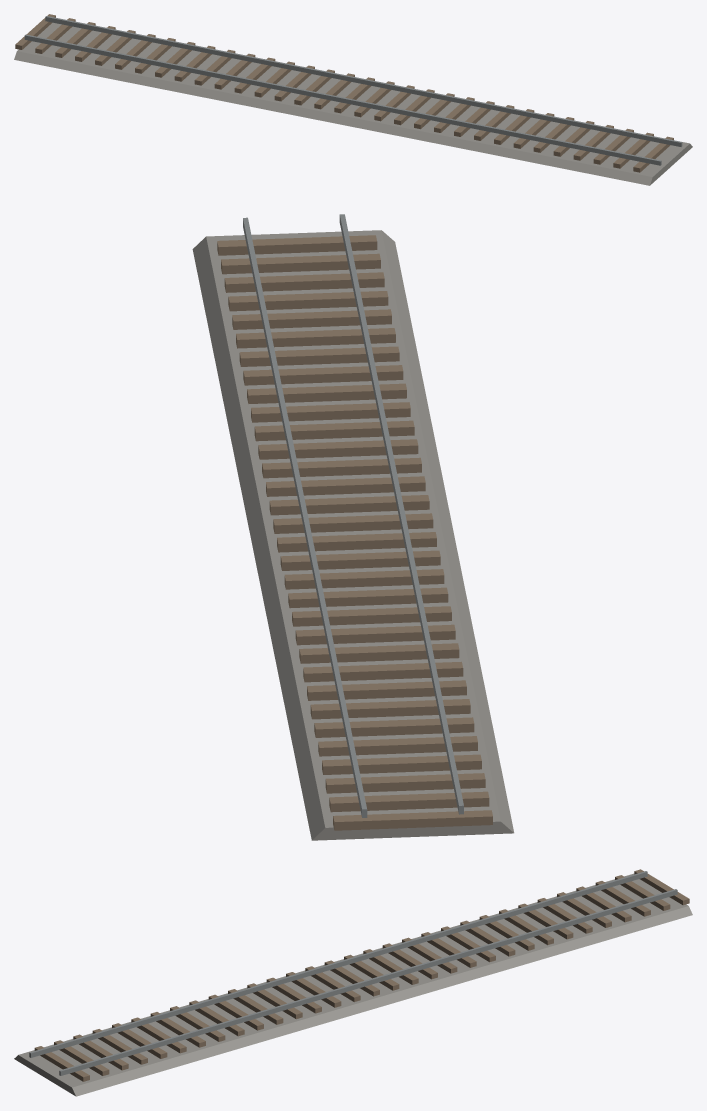
File: rail_01222.glb
3 renders of one model, top to bottom at view 1: azimuth 30°, elevation 25°; view 2: azimuth 150°, elevation 25°; view 3: azimuth 270°, elevation 25°, orthographic. The views are drawn at different scales.
Visible parts, largest first — view 1: Ballast, Sleepers, Rails; view 2: Sleepers, Ballast, Rails; view 3: Ballast, Sleepers, Rails.
Boxes of the visible parts, x1,y1,x2,y2 form: Ballast: (14, 22, 692, 185); Sleepers: (15, 14, 673, 172); Rails: (24, 16, 682, 165); Sleepers: (217, 235, 492, 830); Ballast: (192, 230, 514, 840); Rails: (243, 214, 463, 817); Ballast: (14, 873, 692, 1096); Sleepers: (34, 869, 689, 1081); Rails: (29, 871, 677, 1075).
Bounding box in the file's own units: 14.31 × 0.48 × 18.72.
